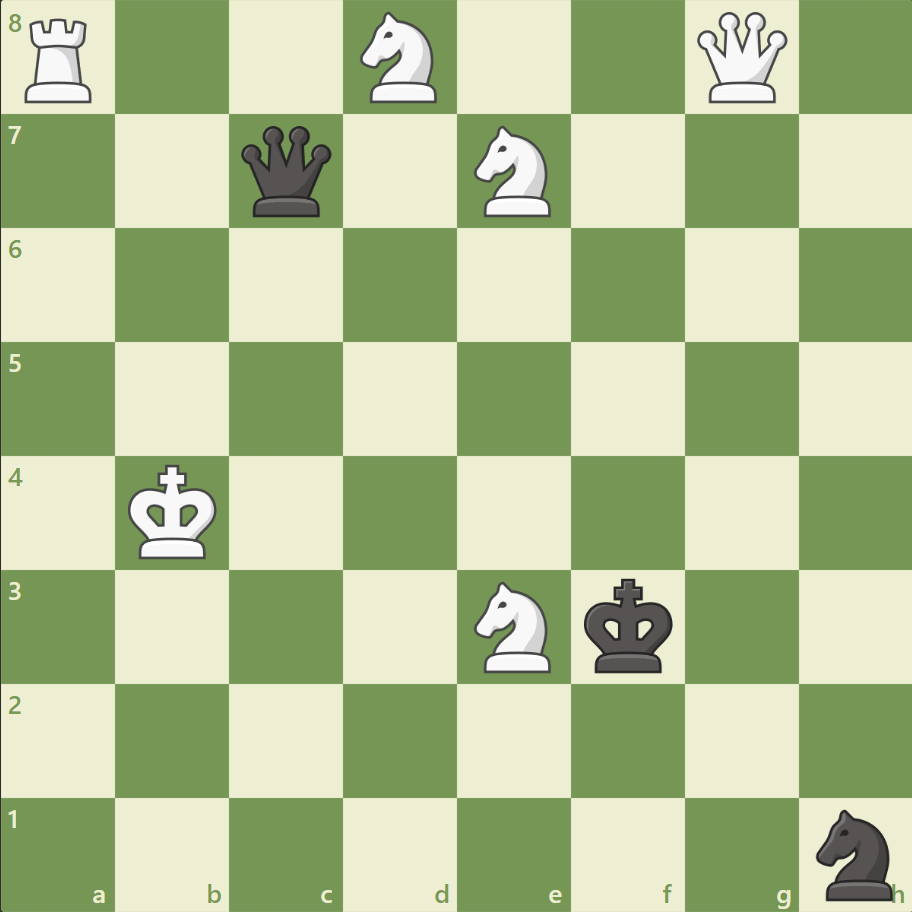K: (124, 458, 224, 566)
N: (351, 7, 449, 110), (465, 121, 562, 223), (465, 575, 562, 677)
Q: (691, 9, 790, 108)
R: (19, 12, 102, 109)
k: (579, 571, 679, 679)
n: (806, 802, 903, 904)
q: (237, 122, 336, 222)
